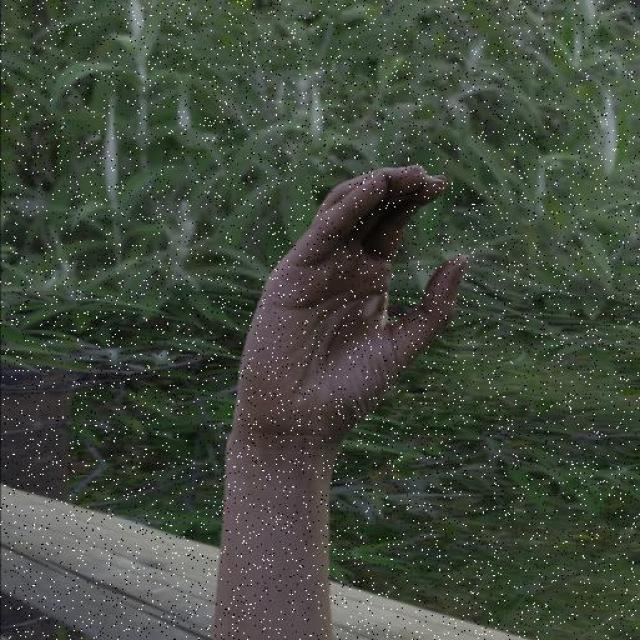C: (219, 156, 482, 462)
